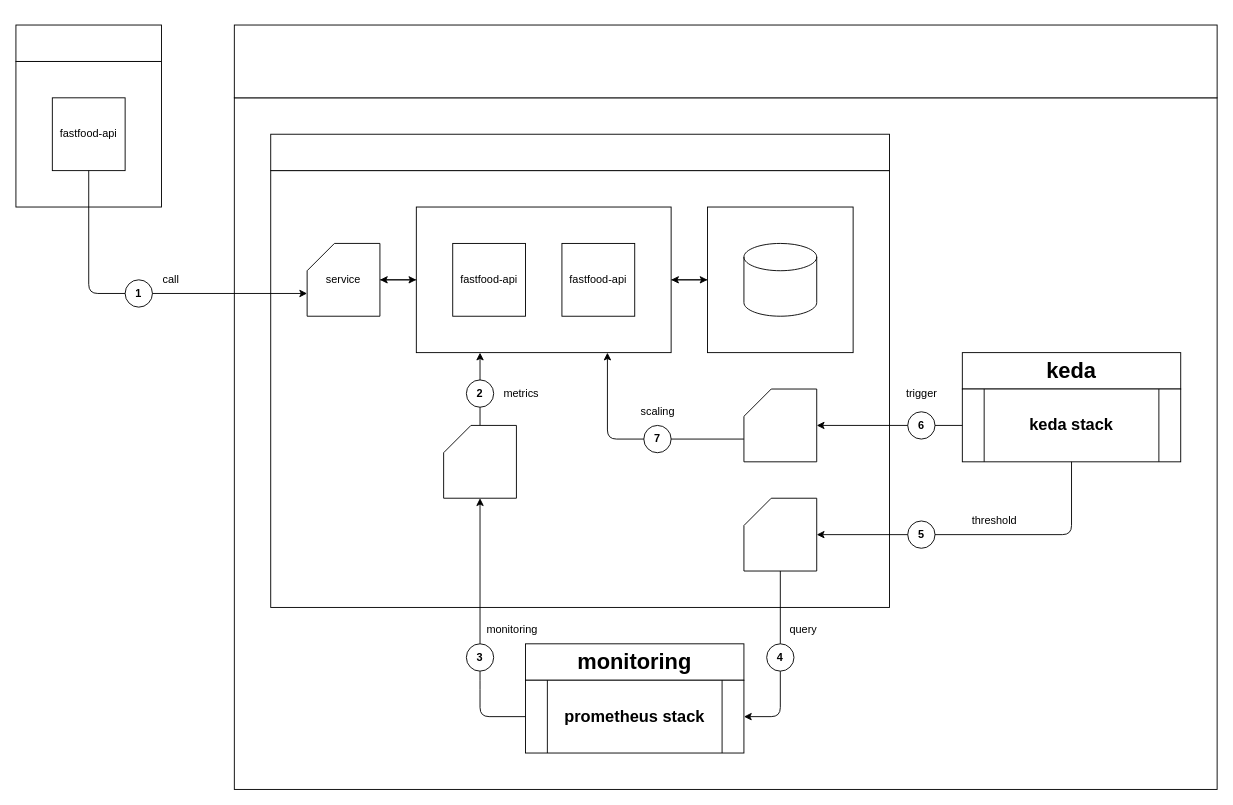
Some shapes in this 1233 by 805 pixel diagram are drawn without their labels. The shapes that lost their labels are listed below. From the top down, each one's centre as x and y in pixels, then its label:
At pixel 88 42: "fastfood".
At pixel 725 61: "kubernetes".
At pixel 580 152: "fiap".
At pixel 780 279: "mongodb".
At pixel 780 425: "hpa".
At pixel 479 461: "service monitor".
At pixel 780 534: "scaled object".
